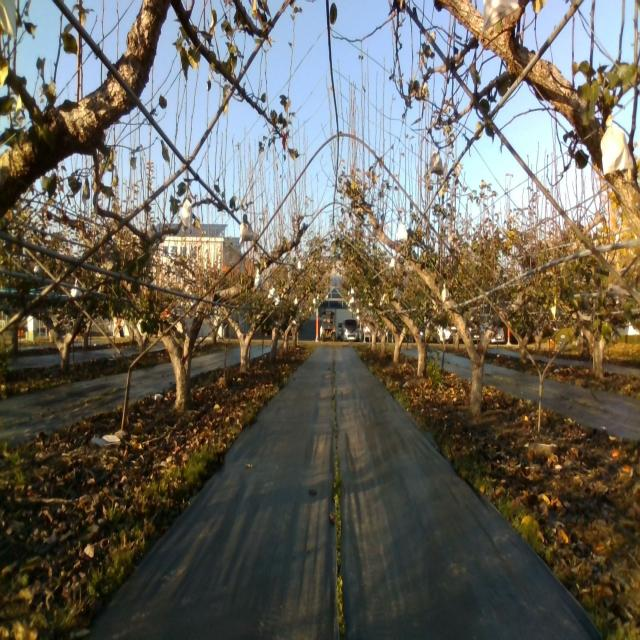pearbags: (601, 112, 632, 175), (180, 198, 194, 230), (430, 151, 443, 176), (239, 220, 253, 241)
